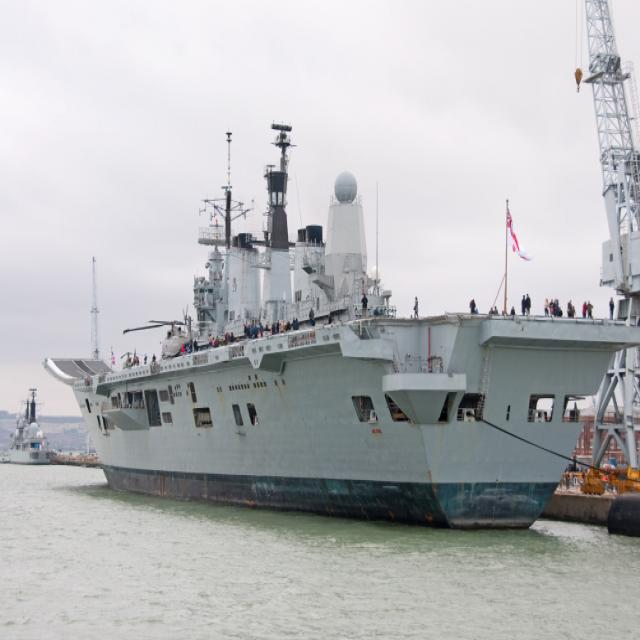Portanaves: (44, 120, 640, 537)
